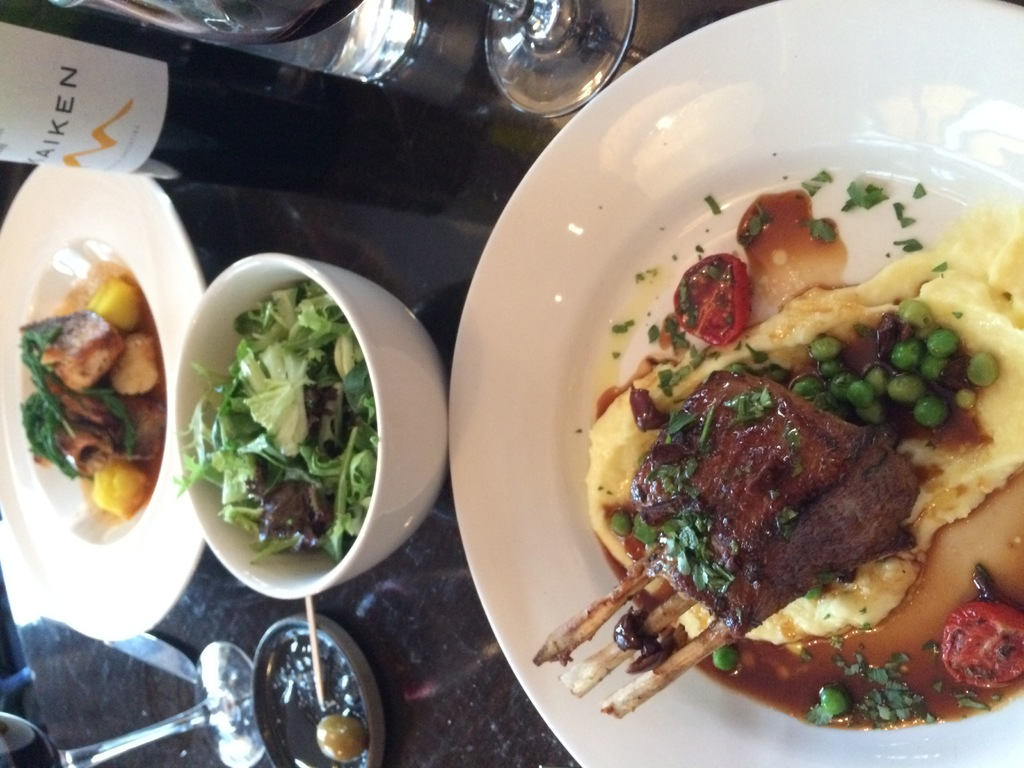salad: (170, 253, 391, 580)
